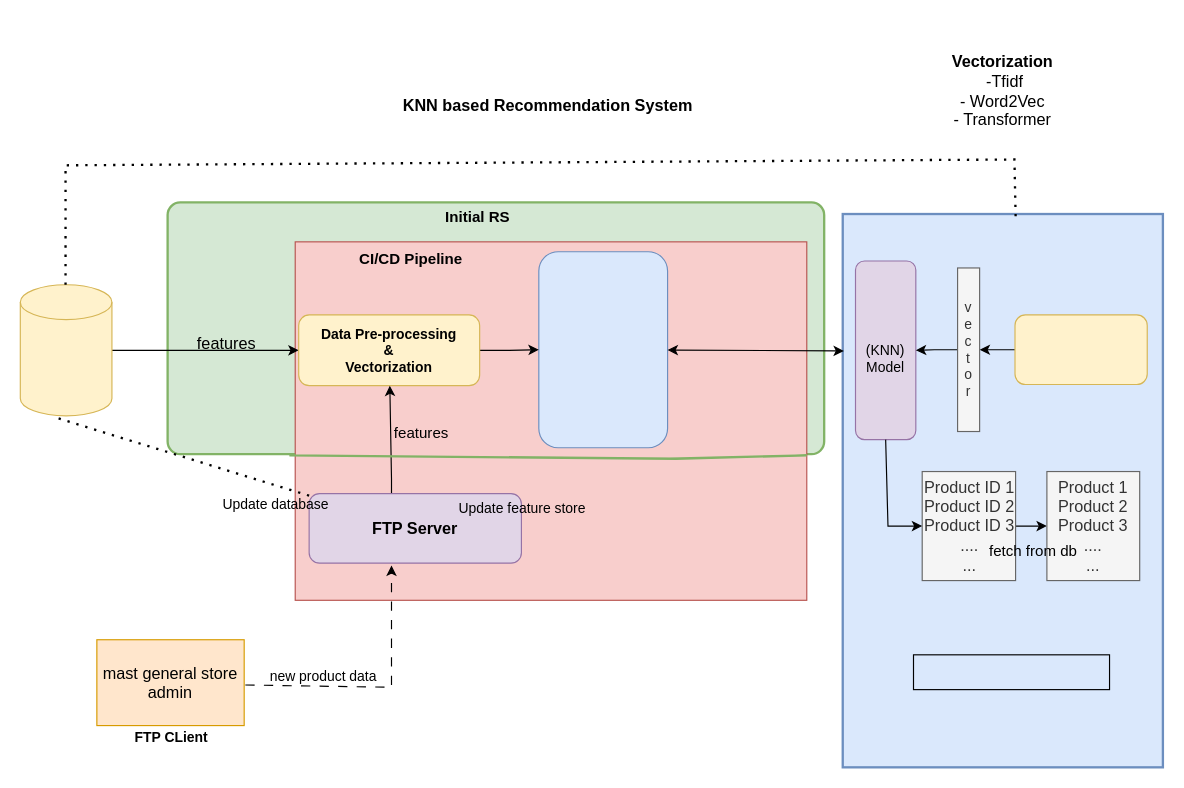
The diagram is 1184 pixels wide and 788 high, and some of its shapes have lost their labels. The centre of each missing label's shape, as x and y in pixels:
"Database" goes at [65,350].
"Feature Store (Vectors, vocabulary, metadata)" goes at [603,349].
"Main Server" goes at [1011,672].
"product id" goes at [1080,349].
